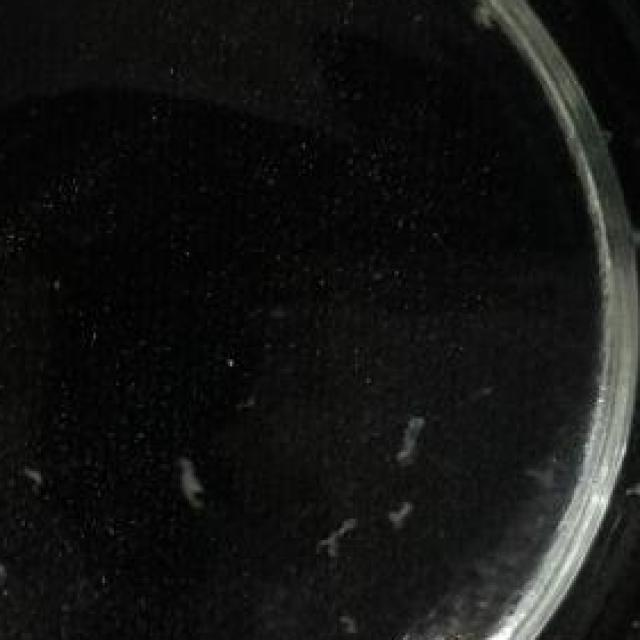Microplastic: (587, 209, 640, 302), (168, 428, 221, 514), (389, 483, 426, 542), (394, 400, 428, 459), (314, 507, 348, 561)
